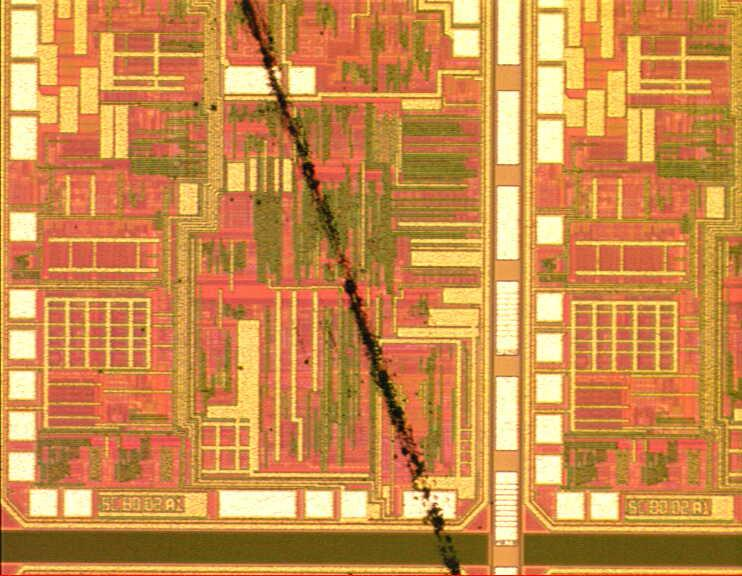SCRATCH: (226, 1, 473, 576)
